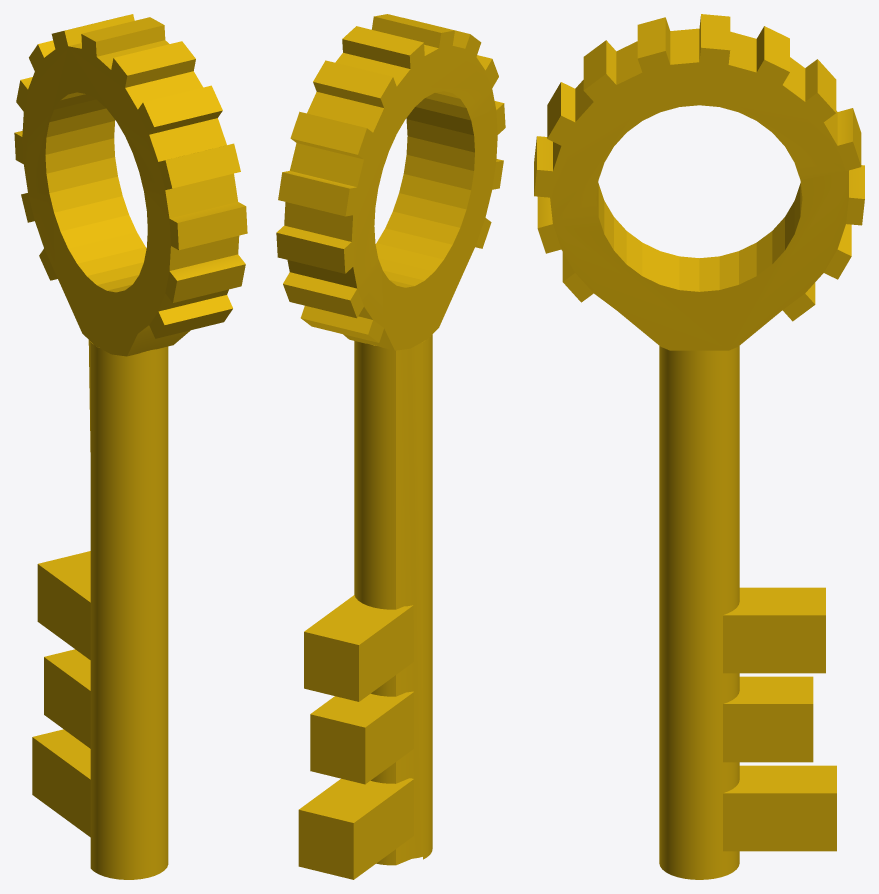
Rendered from key.glb.
3 renders of one model, left to right at view 1: azimuth 30°, elevation 25°; view 2: azimuth 150°, elevation 25°; view 3: azimuth 270°, elevation 25°, orthographic. The views are drawn at different scales.
Visible parts, largest first — view 1: Cube.002; view 2: Cube.002; view 3: Cube.002.
Boxes of the visible parts, <box> form: Cube.002: <box>14,14,247,879</box>; Cube.002: <box>276,14,505,879</box>; Cube.002: <box>534,14,864,879</box>.
Size of the model in its own units: 0.1544 by 1.71 by 0.6163.
